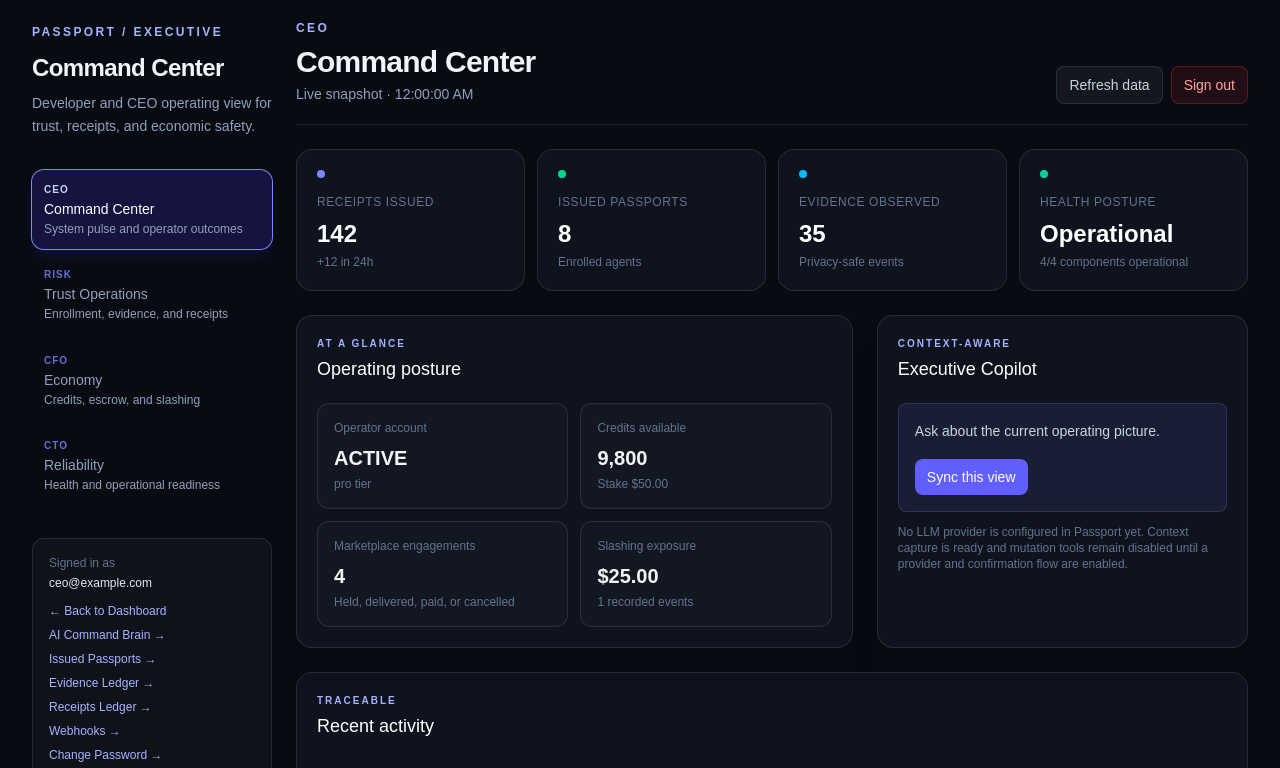
ExecutiveDashboard tab switching › switches to Reliability tab when clicked
Check: the heading "Operating posture" is shown, box [317, 359, 461, 379]
Click the tab "CTO Reliability Health and operational readiness" at [152, 466], box [32, 426, 272, 506]
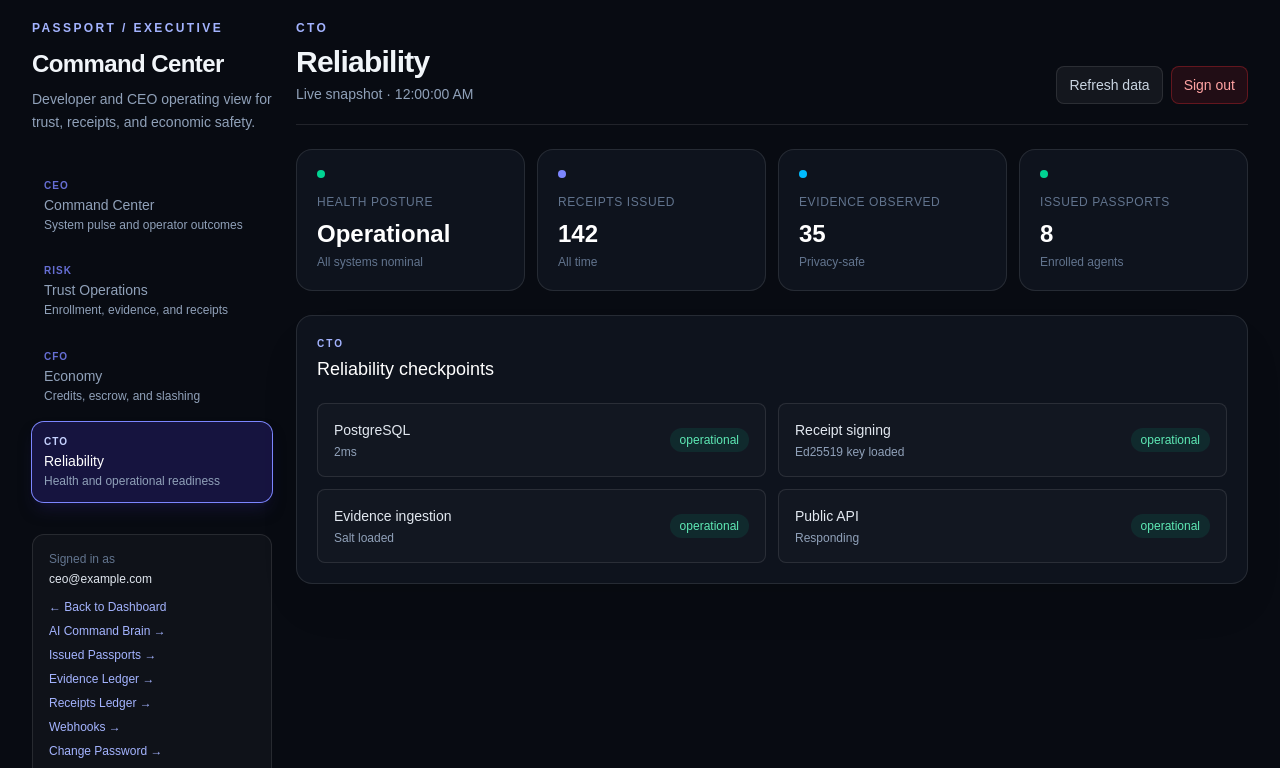
Check: the heading "Reliability checkpoints" is shown, box [317, 359, 494, 379]
Check: the text "PostgreSQL" is shown, box [334, 420, 410, 440]
Check: the text "Receipt signing" is shown, box [795, 420, 904, 440]
